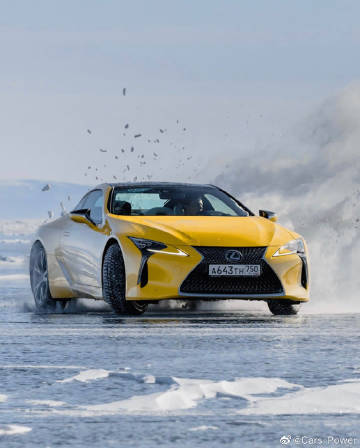other: (24, 176, 309, 323)
